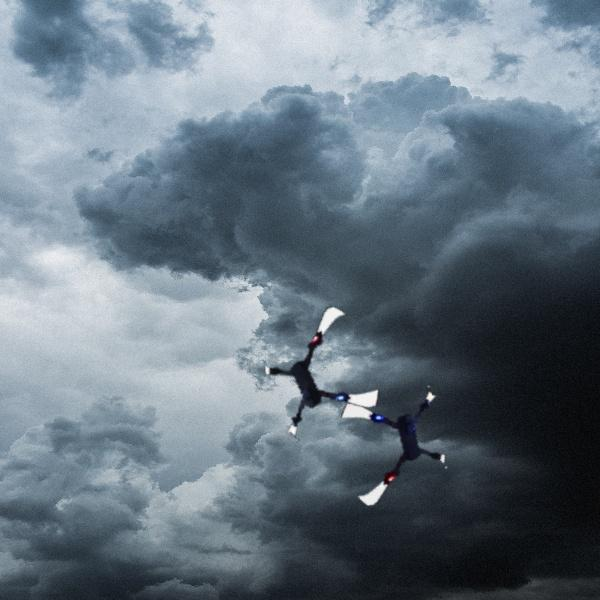drone: (258, 316, 381, 439), (337, 384, 457, 504)
